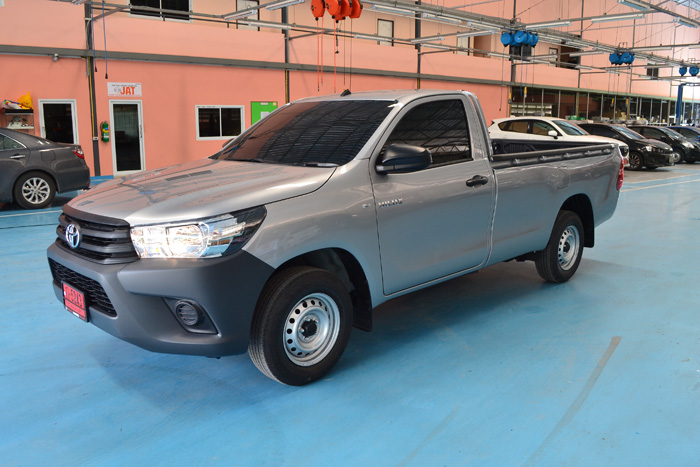pickup: (46, 86, 627, 387)
